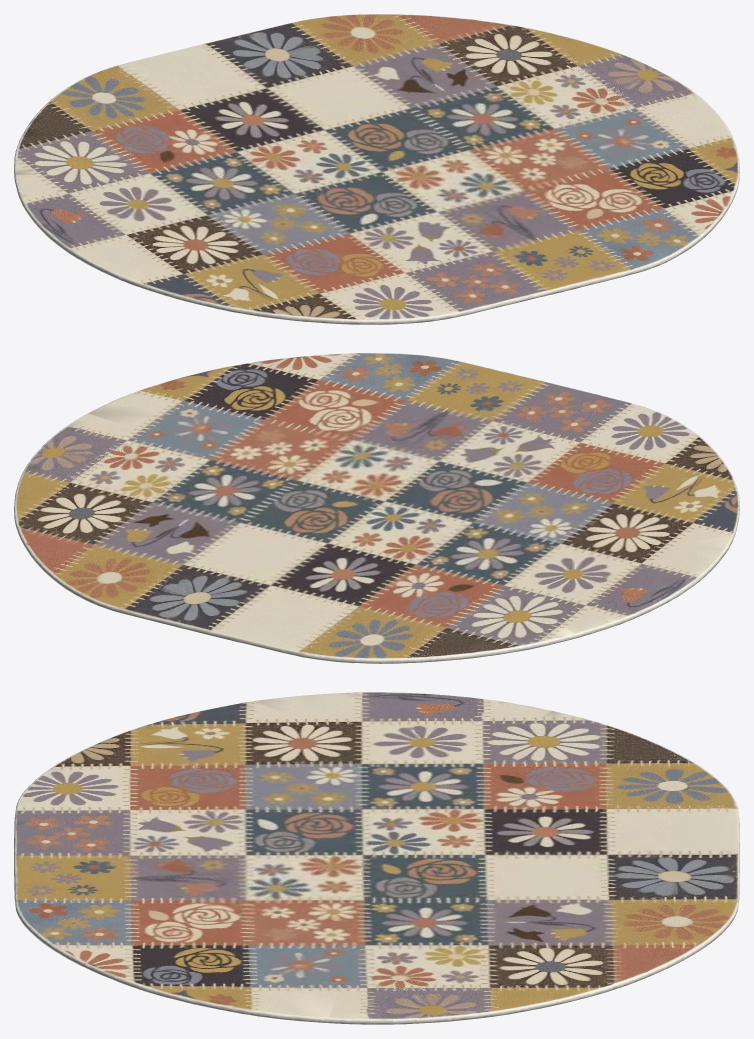
File: lavender-pattern-rug.glb
The picture shows the model from 3 angles, top to bottom: view 1: azimuth 30°, elevation 25°; view 2: azimuth 150°, elevation 25°; view 3: azimuth 270°, elevation 25°; orthographic projection. The views are drawn at different scales.
Parts seen in each view (by area): view 1: mesh_node; view 2: mesh_node; view 3: mesh_node.
Boxes of the visible parts, left/top/right/bottom form: mesh_node: left=14, top=14, right=739, bottom=324; mesh_node: left=14, top=353, right=739, bottom=663; mesh_node: left=14, top=692, right=739, bottom=1024.
Size of the model in its own units: 1.9 by 0.0153 by 1.77.
Materials: 1 (1 with a texture image).
